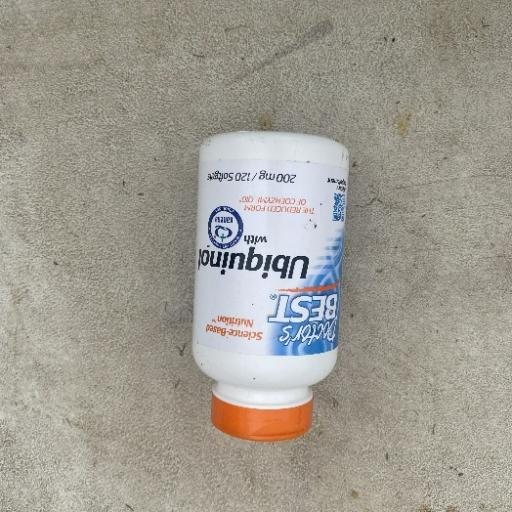Plastic: (188, 127, 352, 443)
